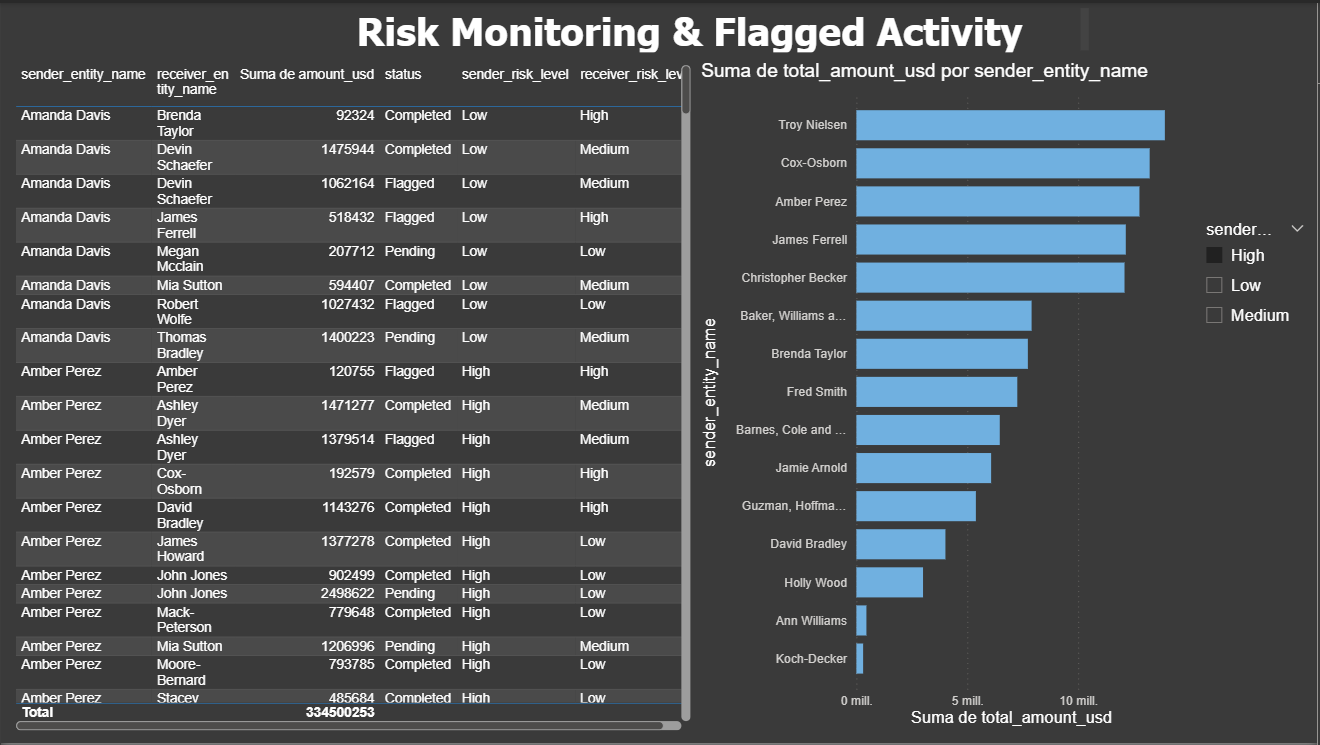

This screenshot's page, from the dashboard's own definition file:
{"tool":"powerbi","page":{"name":"Risk & Flags","canvas":[1280,720],"ordinal":2},"visuals":[{"type":"tableEx","fields":{"Values":["transactions_enriched.sender_entity_name","transactions_enriched.receiver_entity_name","Sum(transactions_enriched.amount_usd)","transactions_enriched.status","transactions_enriched.sender_risk_level","transactions_enriched.receiver_risk_level"]},"box":[9,55,667,657],"z":0},{"type":"clusteredBarChart","fields":{"Category":["relationships.sender_entity_name"],"Y":["Sum(relationships.total_amount_usd)"]},"box":[676,55,483,653],"z":1000},{"type":"slicer","fields":{"Values":["relationships.sender_risk_level"]},"box":[1159.4,206.2,120.6,200.4],"z":2000},{"type":"textbox","box":[285,0,778,53],"z":3000}]}

Visuals, with their boxes in screenshot pixels (x1, y1, x2, y2), scaled from the page's 1280x720 canvas onto the 1320x745 screenshot:
tableEx - transactions_enriched.sender_entity_name x transactions_enriched.receiver_entity_name: BBox(9, 57, 697, 737)
clusteredBarChart - relationships.sender_entity_name x Sum(relationships.total_amount_usd): BBox(697, 57, 1195, 733)
slicer - relationships.sender_risk_level: BBox(1196, 213, 1319, 421)
textbox: BBox(294, 0, 1096, 55)
